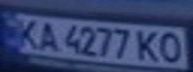2: (78, 22, 100, 56)
4: (60, 21, 81, 55)
7: (112, 25, 136, 60), (93, 25, 115, 57)
A: (33, 19, 60, 52)
K: (12, 16, 45, 50), (133, 28, 163, 63)
O: (154, 29, 187, 64)
